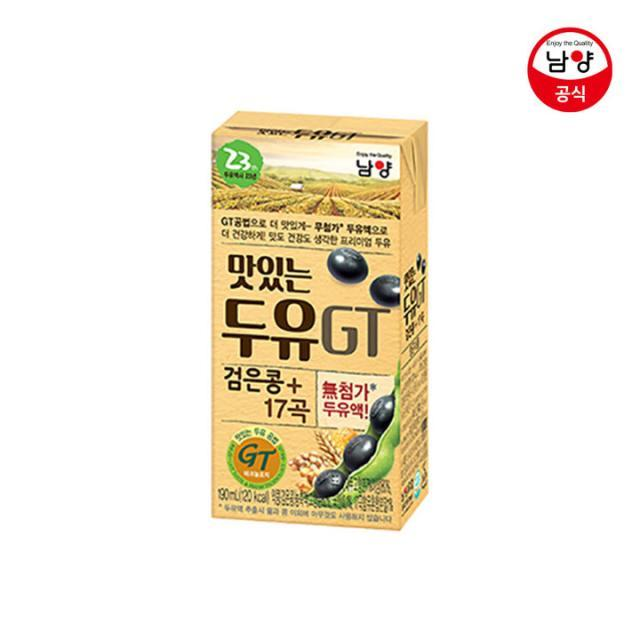Tetra: (180, 99, 450, 543)
